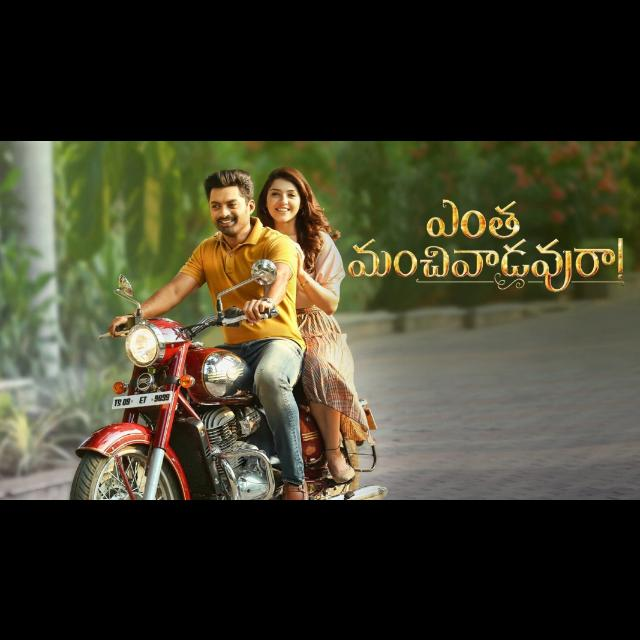without helmet: (205, 164, 255, 236), (256, 165, 308, 222)
